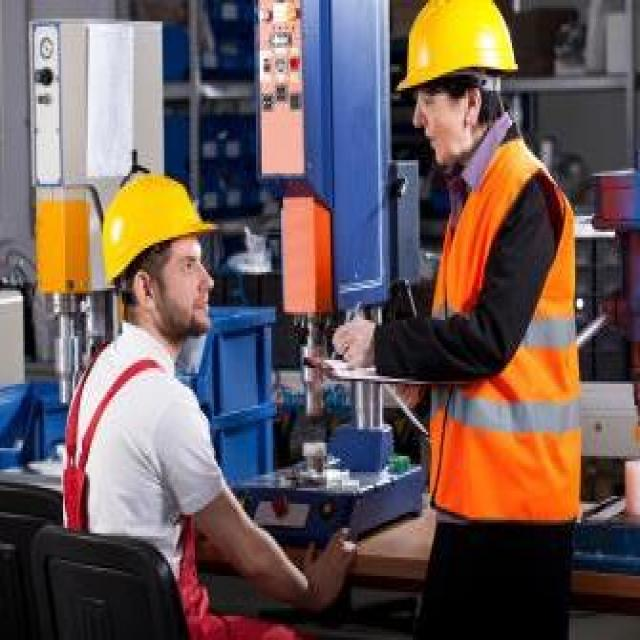Reflective-Jacket: (422, 144, 587, 536)
Safety-Helmet: (97, 168, 216, 288), (393, 0, 521, 101)
